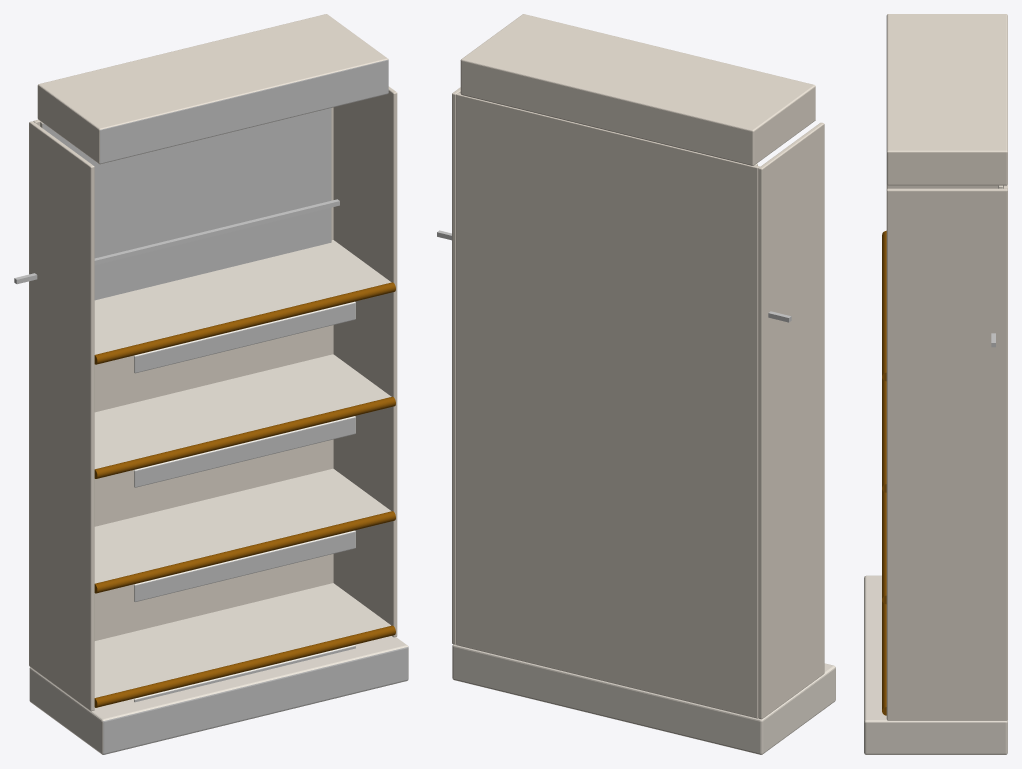
The model's file is display_rack_2.obj.
3 renders of one model, left to right at view 1: azimuth 30°, elevation 25°; view 2: azimuth 150°, elevation 25°; view 3: azimuth 270°, elevation 25°, orthographic. The views are drawn at different scales.
Parts seen in each view (by area): view 1: side.panel_1, header.panel, arch.cap, side.panel_2, back.panel, base.plinth, shelf.panel_2, shelf.panel_3, shelf.panel_1, shelf.panel_4, shelf.talker_2, shelf.talker_3 (+6 smaller); view 2: back.panel, side.panel_1, arch.cap, base.plinth, side.panel_2; view 3: side.panel_2, arch.cap, base.plinth, shelf.nose_4, shelf.nose_1, shelf.nose_2, shelf.nose_3, side.panel_1.
Part boxes in pixels (box(x1,y1,x2,y2)): side.panel_1: box(29, 121, 94, 711); header.panel: box(40, 108, 331, 300); arch.cap: box(37, 14, 388, 164); side.panel_2: box(333, 86, 397, 637); back.panel: box(33, 107, 333, 640); base.plinth: box(29, 636, 408, 754); shelf.panel_2: box(94, 468, 391, 583); shelf.panel_3: box(94, 354, 391, 468); shelf.panel_1: box(94, 583, 390, 697); shelf.panel_4: box(94, 240, 391, 354); shelf.talker_2: box(134, 530, 355, 601); shelf.talker_3: box(134, 416, 355, 487); back.panel: box(456, 93, 759, 718); side.panel_1: box(758, 122, 824, 719); arch.cap: box(460, 14, 815, 165); base.plinth: box(452, 644, 835, 754); side.panel_2: box(452, 87, 460, 644); side.panel_2: box(886, 188, 1007, 720); arch.cap: box(886, 14, 1007, 185); base.plinth: box(864, 575, 1007, 754); shelf.nose_4: box(882, 230, 886, 381); shelf.nose_1: box(882, 600, 886, 715); shelf.nose_2: box(882, 489, 886, 604); shelf.nose_3: box(882, 378, 886, 492); side.panel_1: box(886, 184, 998, 189).
Size of the model in its own units: 1.04 by 1.75 by 0.381.
